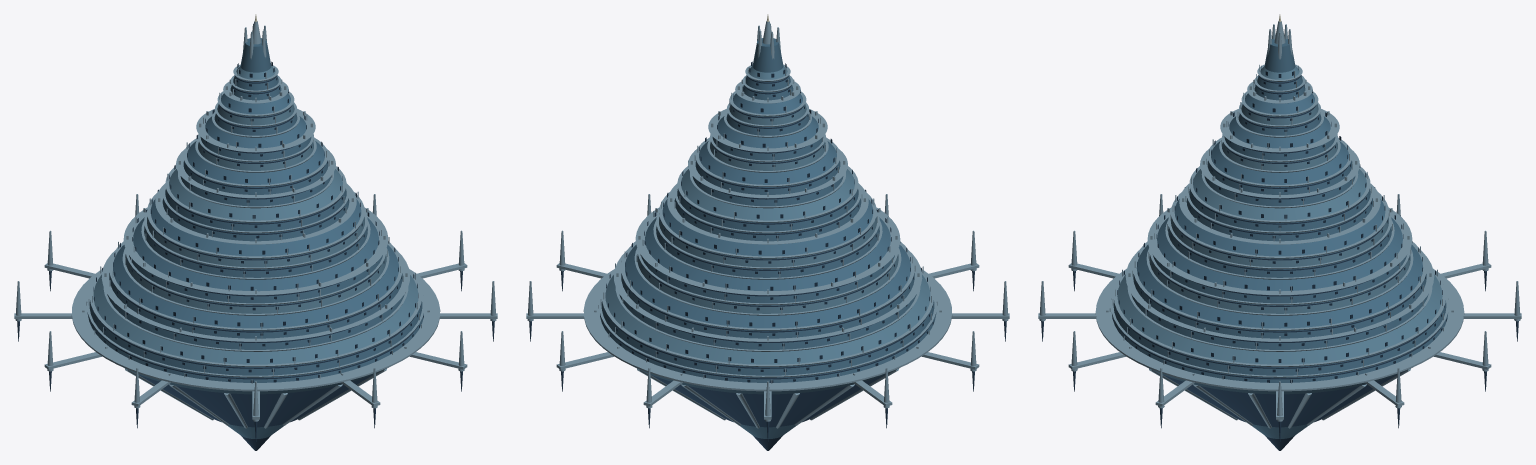
File: sky-citadel.glb
3 renders of one model, left to right at view 1: azimuth 30°, elevation 25°; view 2: azimuth 150°, elevation 25°; view 3: azimuth 270°, elevation 25°, orthographic.
Visible parts, largest first — view 1: sky-citadel; view 2: sky-citadel; view 3: sky-citadel.
Part boxes in pixels (bbox=[...]): sky-citadel: bbox=[14, 14, 497, 450]; sky-citadel: bbox=[526, 14, 1009, 450]; sky-citadel: bbox=[1038, 14, 1521, 450].
Size of the model in its own units: 32.8 by 32.65 by 32.8.
